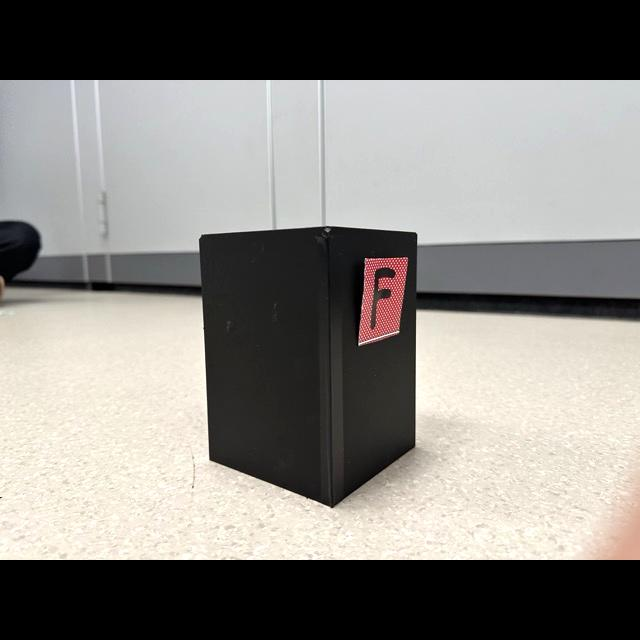F: (371, 267, 396, 329)
